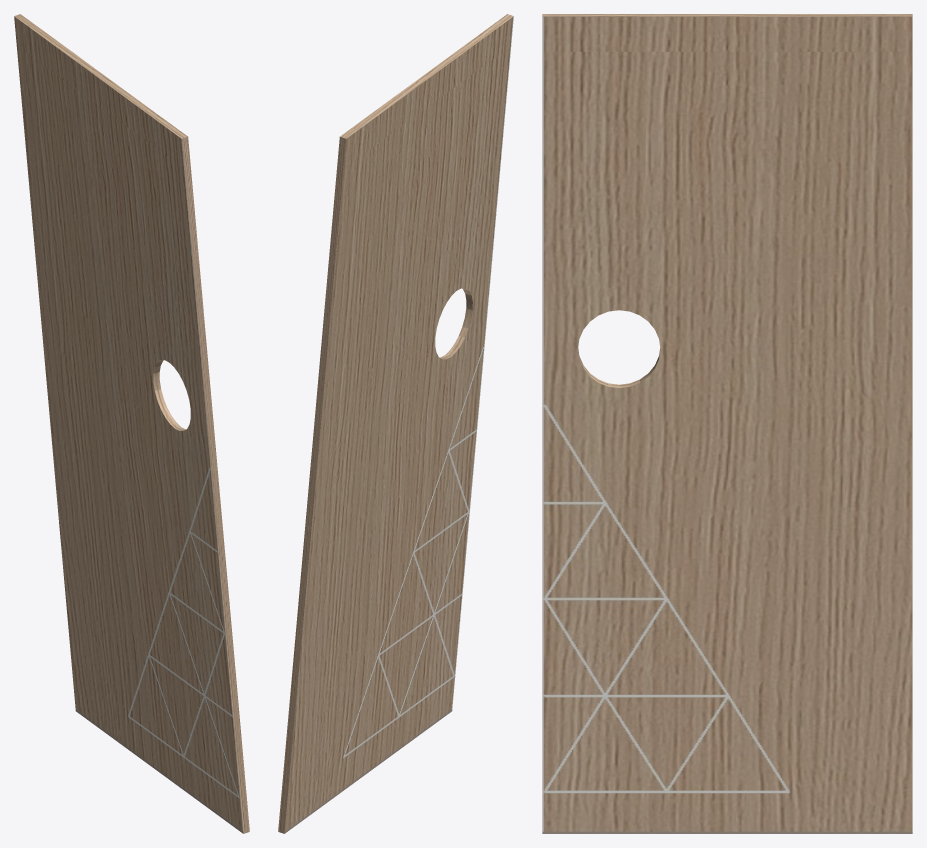
File: AITHOUSA I_c_part3.fbx
3 views of the same model, side by side, from view 1: azimuth 30°, elevation 25°; view 2: azimuth 150°, elevation 25°; view 3: azimuth 270°, elevation 25° (orthographic). The views are drawn at different scales.
Visible parts, largest first — view 1: Mass Element <Standard> Body; view 2: Mass Element <Standard> Body; view 3: Mass Element <Standard> Body.
Part boxes in pixels (bbox=[...]): Mass Element <Standard> Body: bbox=[14, 14, 249, 833]; Mass Element <Standard> Body: bbox=[278, 14, 513, 833]; Mass Element <Standard> Body: bbox=[542, 14, 912, 833].
Size of the model in its own units: 0.2106 by 2.1 by 0.8975.
1 material, 1 textured.
